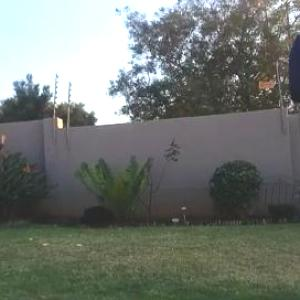follow: (282, 0, 300, 299)
